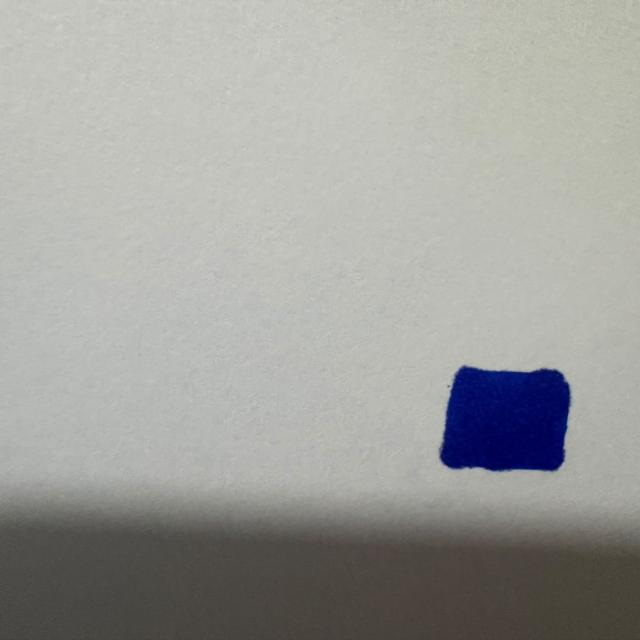Square: (438, 366, 572, 473)
